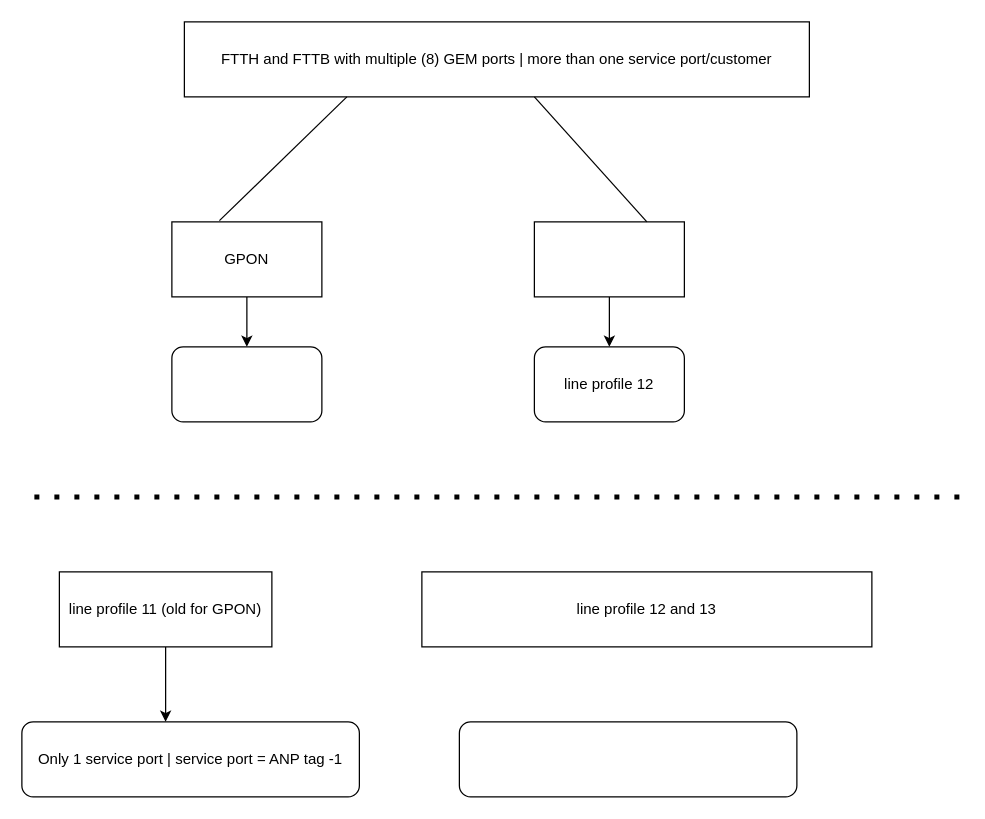
The diagram is 985 pixels wide and 819 high, and some of its shapes have lost their labels. Each missing label, with the box of its shape:
8 service ports, they are set via IT: (458, 721, 797, 797)
line profile 13: (171, 346, 322, 422)
XGS-PON: (533, 221, 684, 297)
